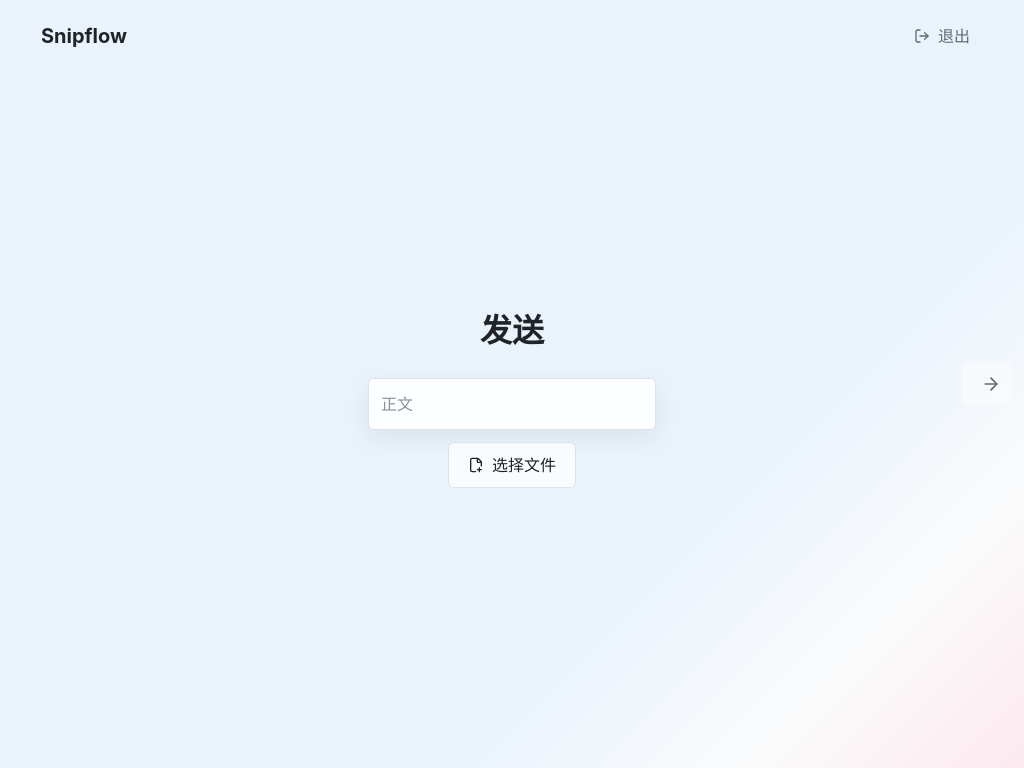
Test: authenticated navigation › switches only between send and receive using direction controls
Expected: the heading "发送" is shown, x1=480 y1=311 x2=544 y2=350
Click the button named "前往接收".
click(987, 384)  # box x1=962 y1=362 x2=1012 y2=406
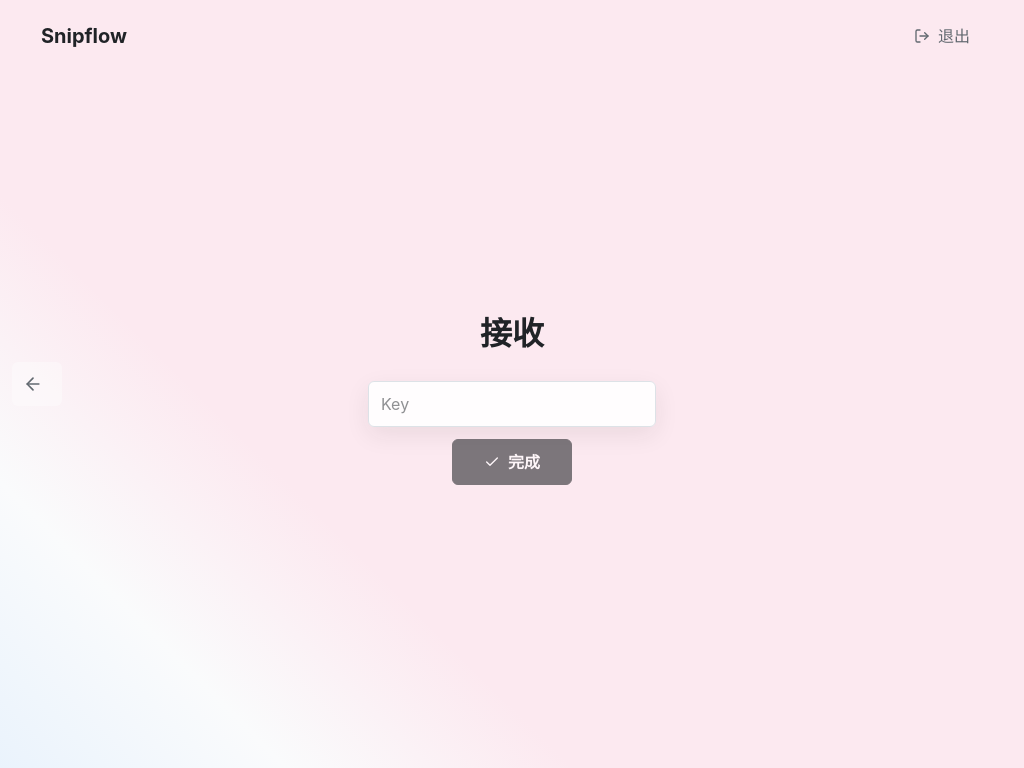
Now the heading "接收" is shown, box x1=480 y1=314 x2=544 y2=353
Click the button named "前往发送".
click(37, 384)  # box x1=12 y1=362 x2=62 y2=406
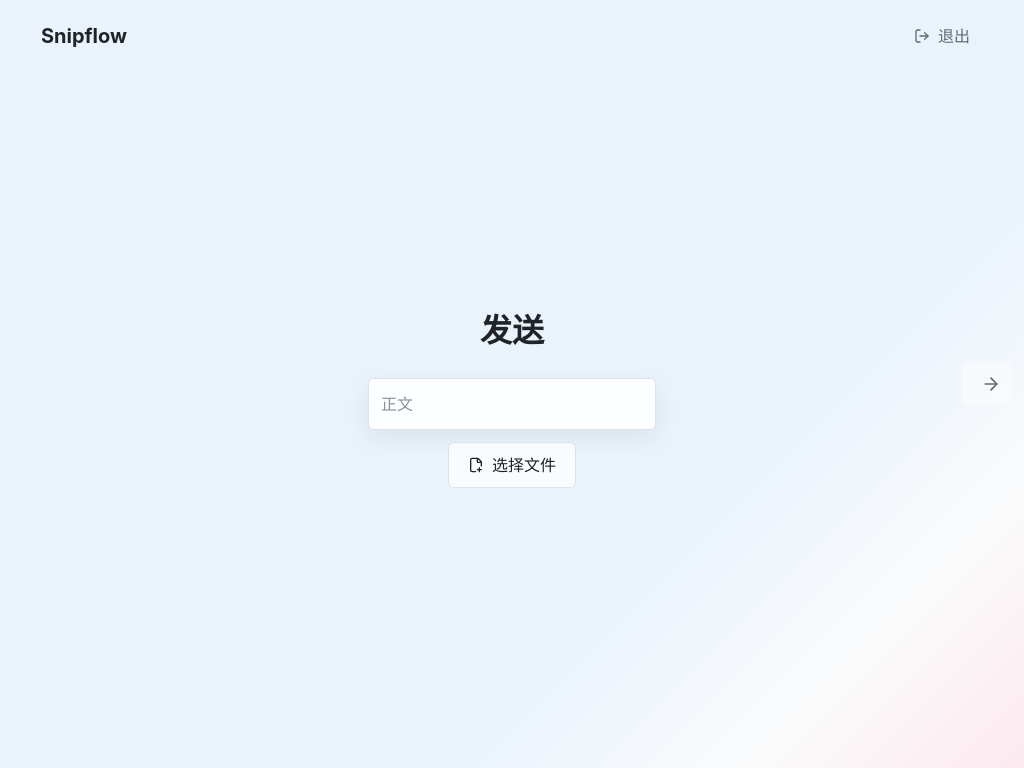
Now the heading "发送" is shown, box x1=480 y1=311 x2=544 y2=350
